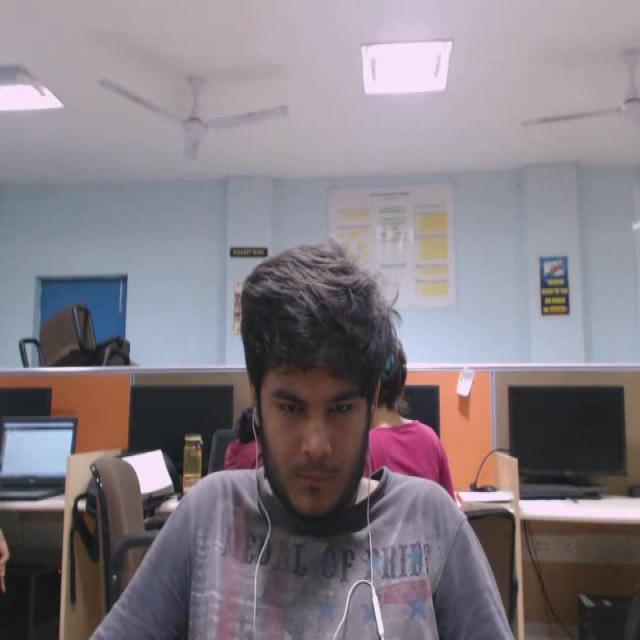Bored: (205, 241, 440, 571)
